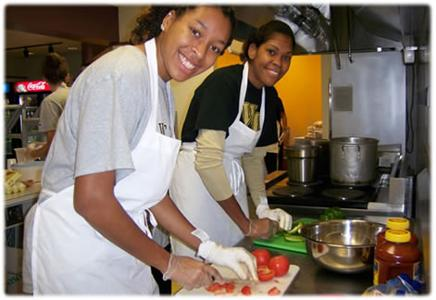person: (21, 6, 264, 296)
